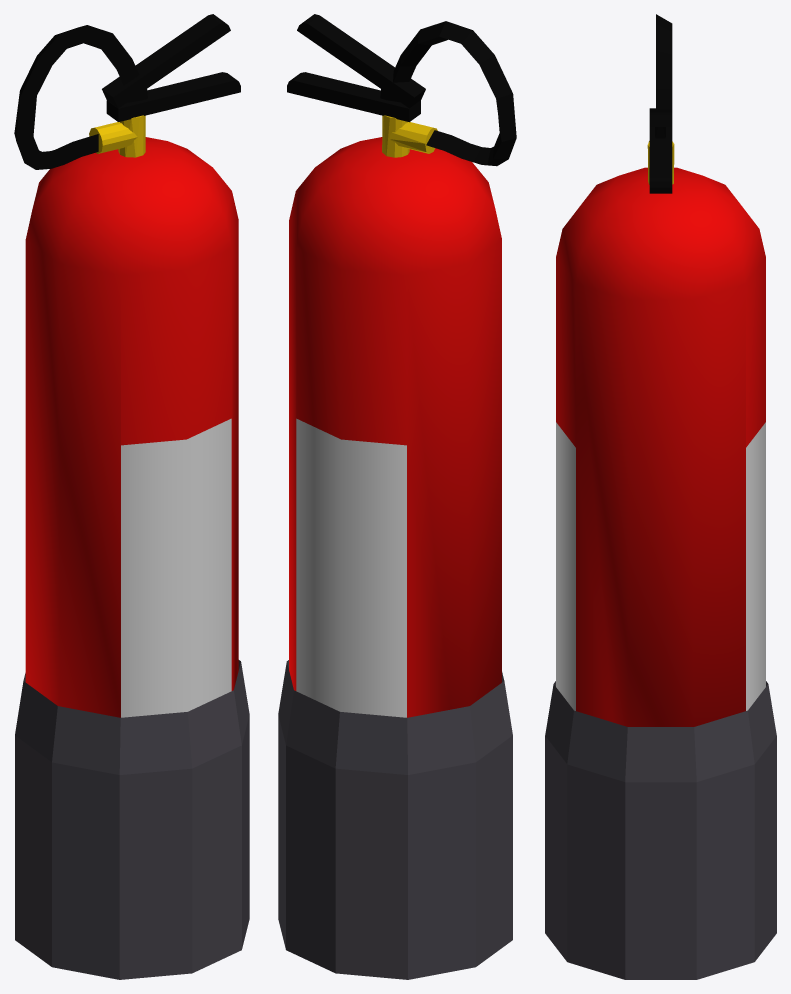
File: extintor final v1.fbx
The picture shows the model from 3 angles, left to right: view 1: azimuth 30°, elevation 25°; view 2: azimuth 150°, elevation 25°; view 3: azimuth 270°, elevation 25°; orthographic projection. The views are drawn at different scales.
Parts seen in each view (by area): view 1: cilindro, base, alca, mangueira, valvula; view 2: cilindro, base, alca, mangueira, valvula; view 3: cilindro, base, alca, mangueira.
Part boxes in pixels (x1,y1,x2,y2): cilindro: [25, 137, 238, 717]; base: [15, 660, 249, 979]; alca: [102, 14, 240, 121]; mangueira: [14, 25, 139, 169]; valvula: [89, 115, 145, 157]; cilindro: [289, 137, 501, 717]; base: [278, 660, 512, 979]; alca: [287, 14, 425, 122]; mangueira: [392, 21, 516, 166]; valvula: [382, 115, 437, 157]; cilindro: [556, 167, 765, 726]; base: [545, 681, 776, 979]; alca: [649, 108, 672, 193]; mangueira: [656, 14, 672, 109].
Bounding box in the file's own units: 18.15 × 71.93 × 17.04.
